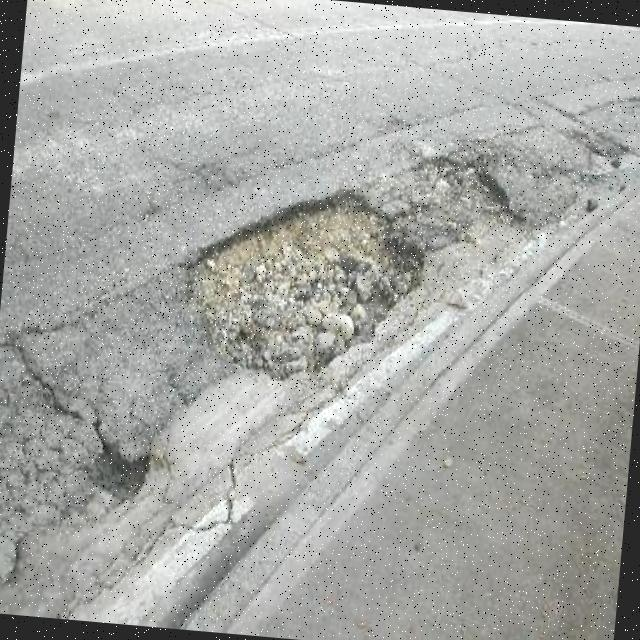Pothole: (182, 189, 426, 382), (389, 157, 521, 257), (84, 424, 148, 505)
